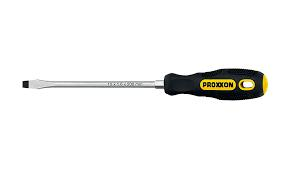screwdriver: (20, 67, 267, 100)
